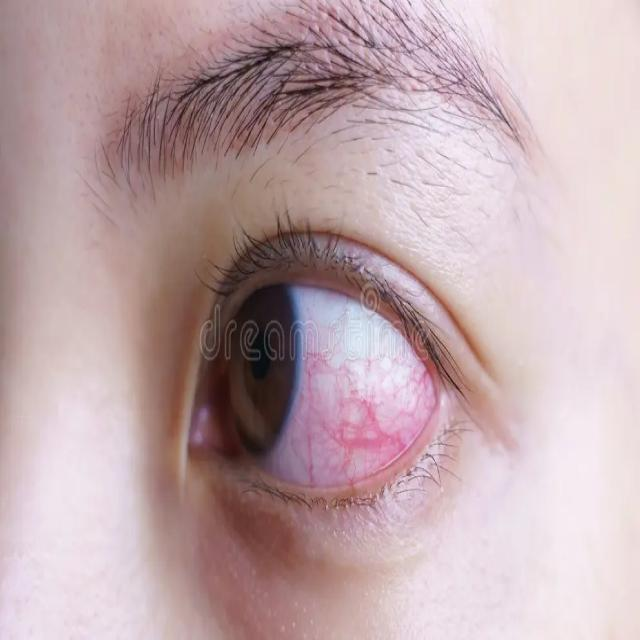Conjunctivitis: (274, 330, 438, 480)
